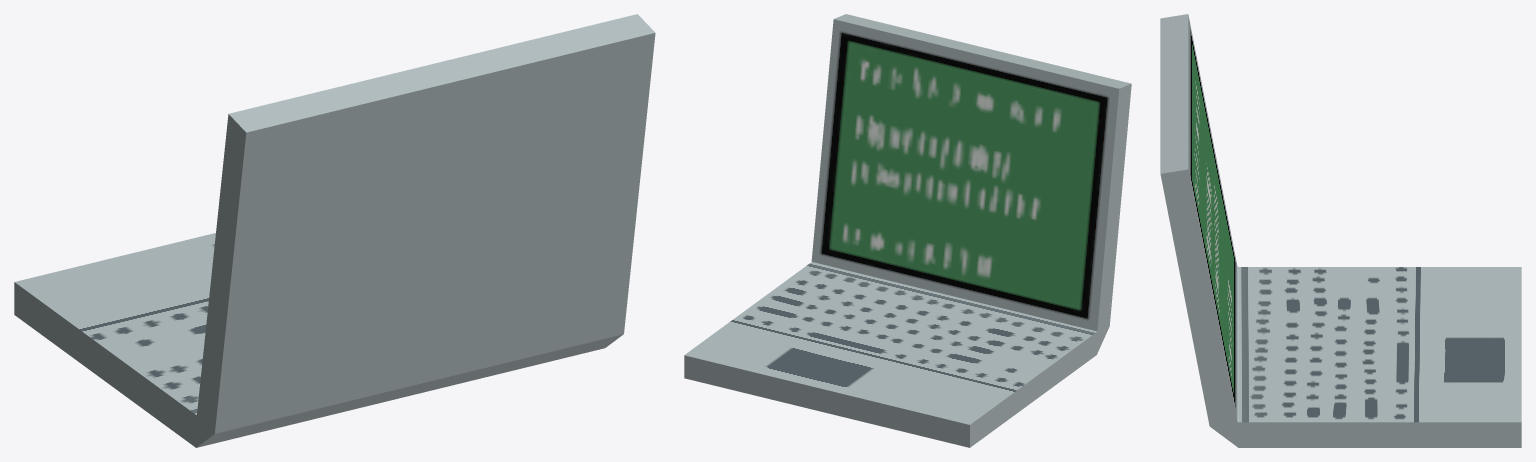
File: laptop-lobby.glb
The picture shows the model from 3 angles, left to right: view 1: azimuth 30°, elevation 25°; view 2: azimuth 150°, elevation 25°; view 3: azimuth 270°, elevation 25°; orthographic projection. The views are drawn at different scales.
Visible parts, largest first — view 1: Cube.001; view 2: Cube.001; view 3: Cube.001.
Boxes of the visible parts, x1=… form: Cube.001: x1=14, y1=14, x2=655, y2=447; Cube.001: x1=684, y1=14, x2=1131, y2=447; Cube.001: x1=1160, y1=14, x2=1521, y2=447.
Bounding box in the file's own units: 2.6 × 2.17 × 2.55.
Materials: 1 (1 with a texture image).
